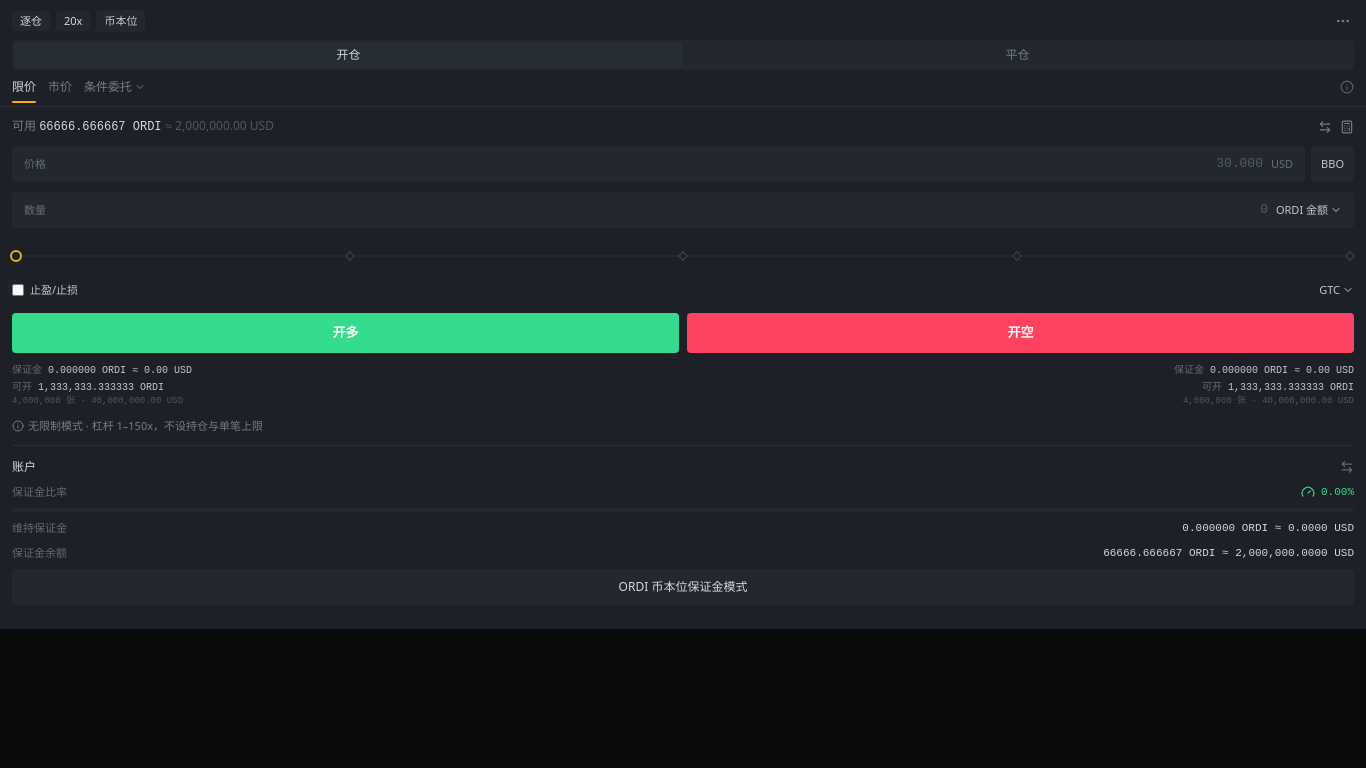
Test: 下单面板：ORDI 20x、已挂 13,370 USD 条件单、再下 13,990 USD › 无限制：「可开」只受可用余额 × 杠杆约束（2,000,000 × 20 = 40,000,000 USD），不再是分层余量
The width and height of the screenshot is (1366, 768).
What coordinates should you click on to do the following:
click the button "市价"
I would click on:
 (60, 90)
Its box is [48,78,72,102].
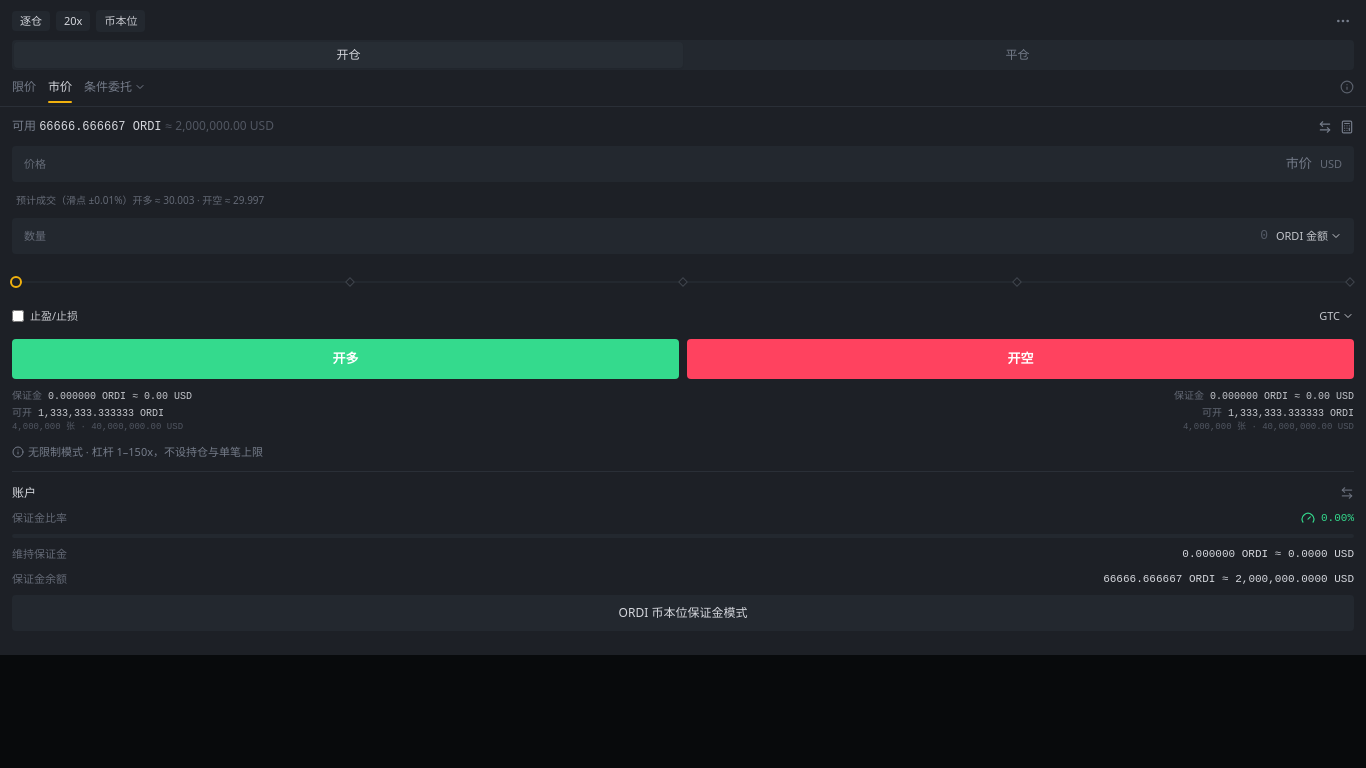
What coordinates should you click on to do the following:
click the button with test id "unit-preference-trigger"
I would click on:
 (1309, 236)
Its box is [1276,228,1342,244].
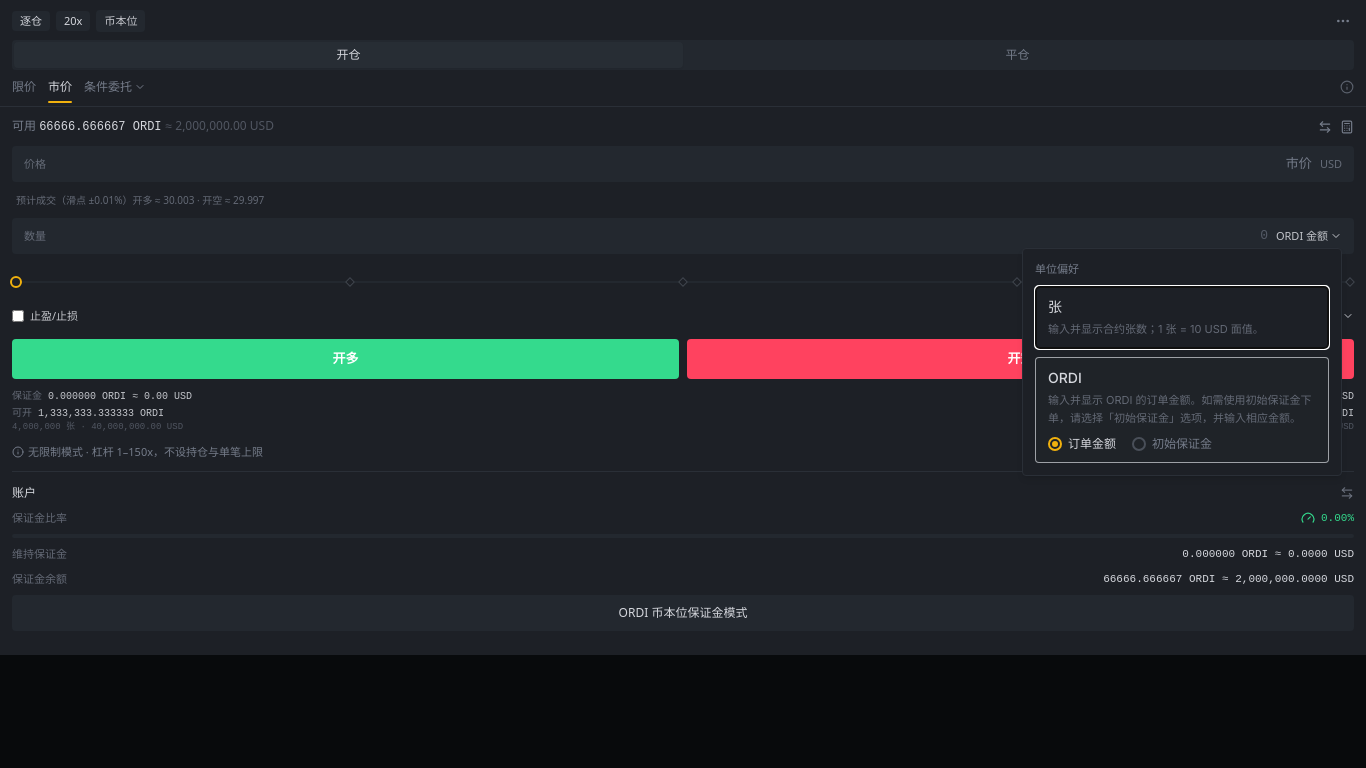
What coordinates should you click on to do the following:
click the button with test id "unit-card-CONTRACTS"
I would click on:
 (1156, 328)
Its box is [1035,286,1329,349].
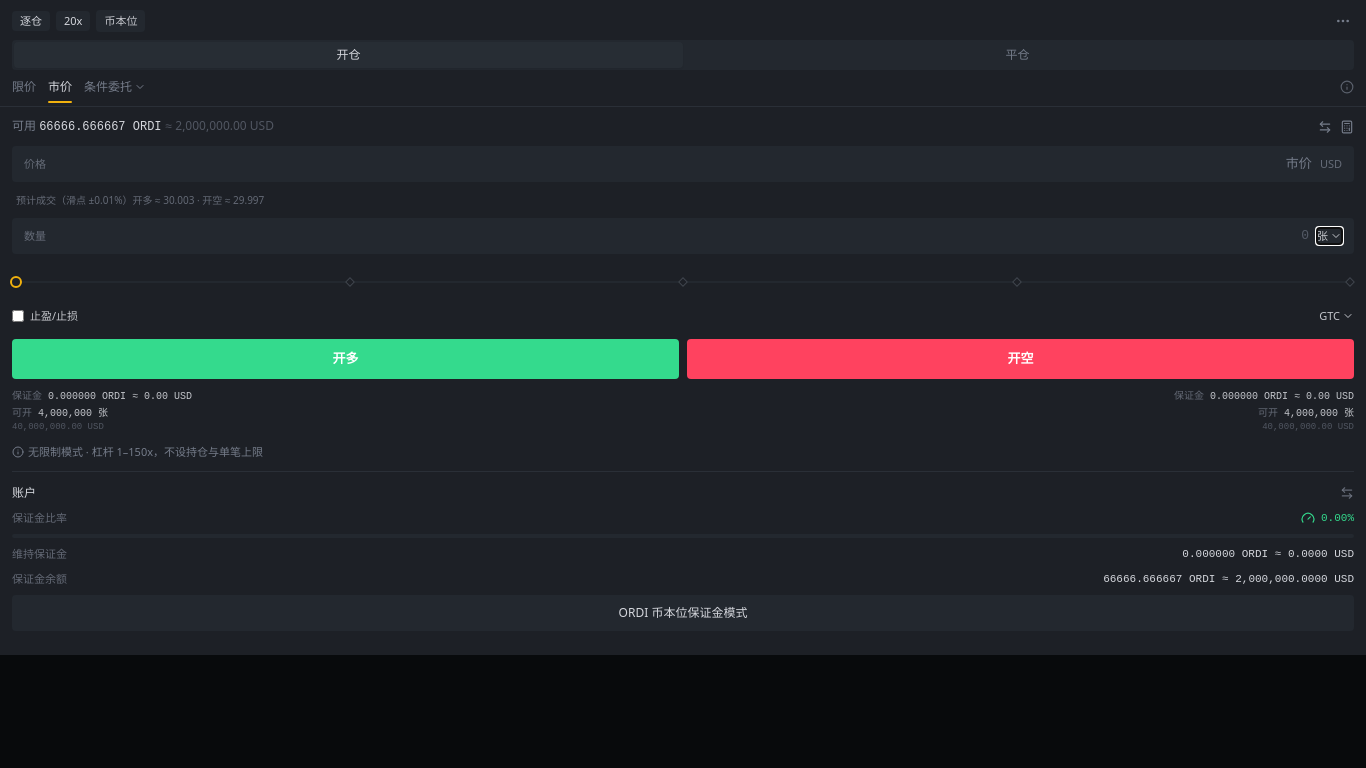
Result: the text with test id "max-open-LONG-main" shows "4,000,000" at [38,408,108,418]
